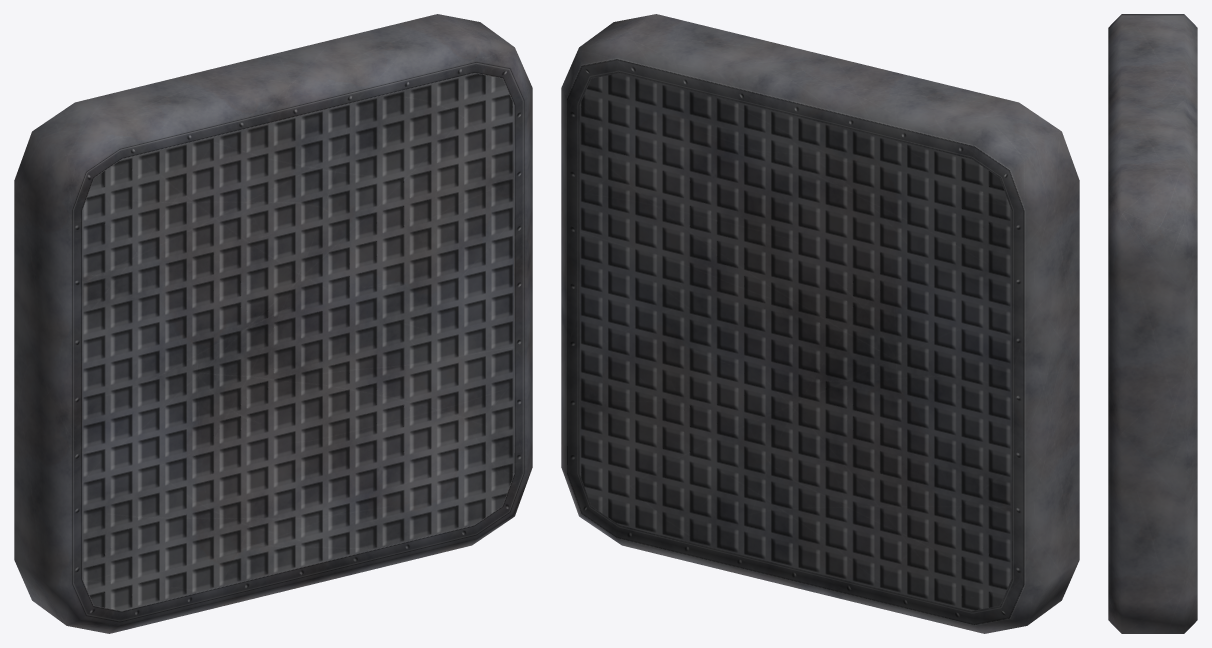
File: HeistRoomSquareCover.fbx
3 views of the same model, side by side, from view 1: azimuth 30°, elevation 25°; view 2: azimuth 150°, elevation 25°; view 3: azimuth 270°, elevation 25° (orthographic). The views are drawn at different scales.
Parts seen in each view (by area): view 1: HeistRoomSquareCover; view 2: HeistRoomSquareCover; view 3: HeistRoomSquareCover.
Boxes of the visible parts, bbox=[...] form: HeistRoomSquareCover: bbox=[14, 14, 532, 633]; HeistRoomSquareCover: bbox=[561, 14, 1079, 633]; HeistRoomSquareCover: bbox=[1108, 14, 1197, 633].
Bounding box in the file's own units: 3.64 × 3.64 × 0.6467.
Materials: 2 (2 with a texture image).
